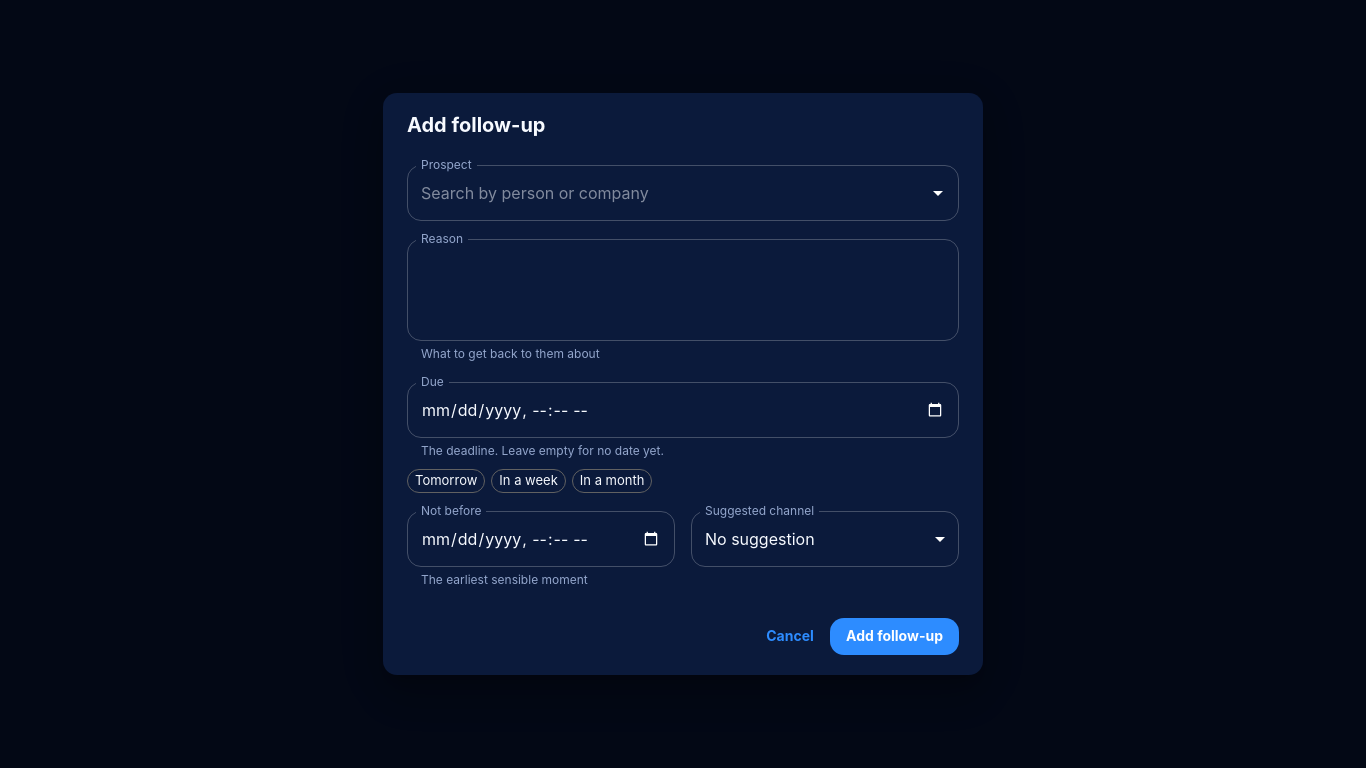
Test case: FollowUpForm (adding) › needs a prospect and a reason, in plain words
The image size is (1366, 768).
Click the button "Add follow-up". click: {"x": 895, "y": 636}
box: [830,618,959,655]
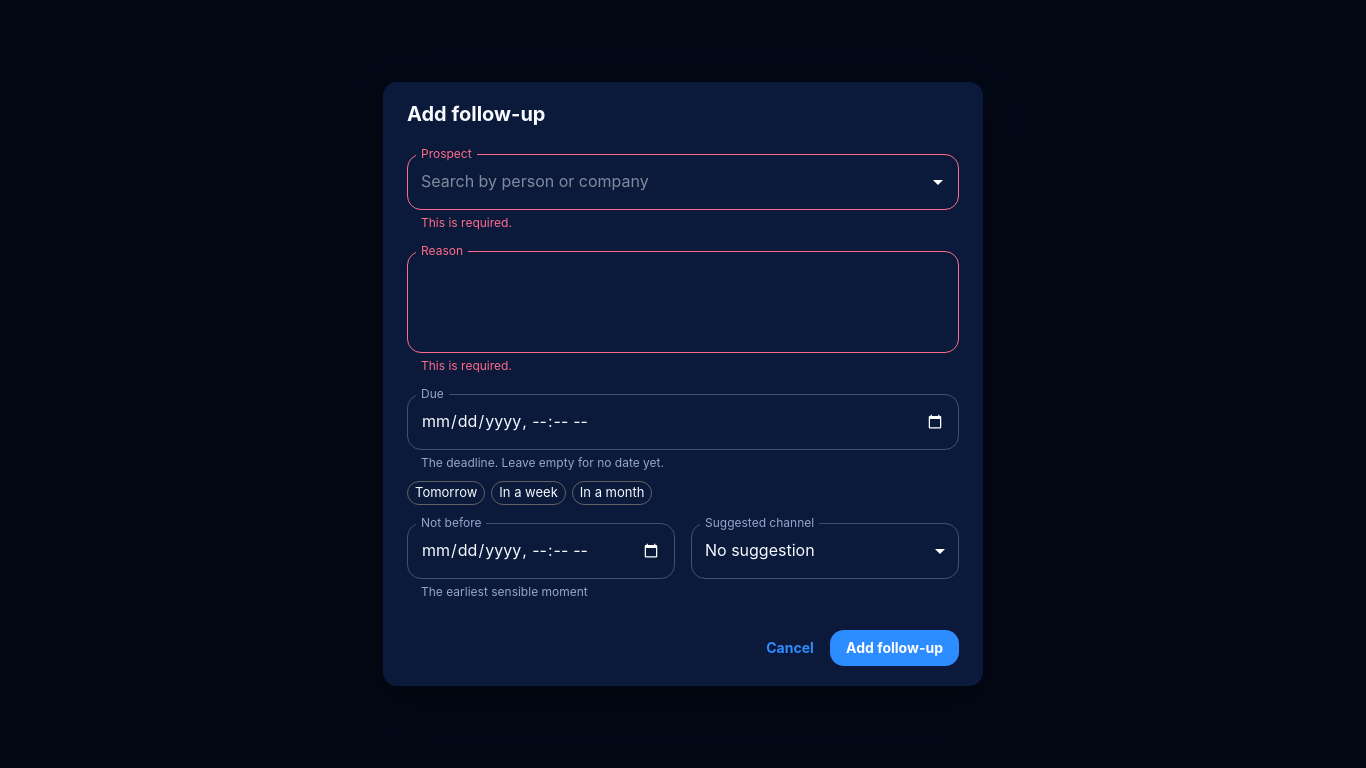
Result: the text "This is required." is shown 2 times at [421,215,512,230]; [421,358,512,373]
